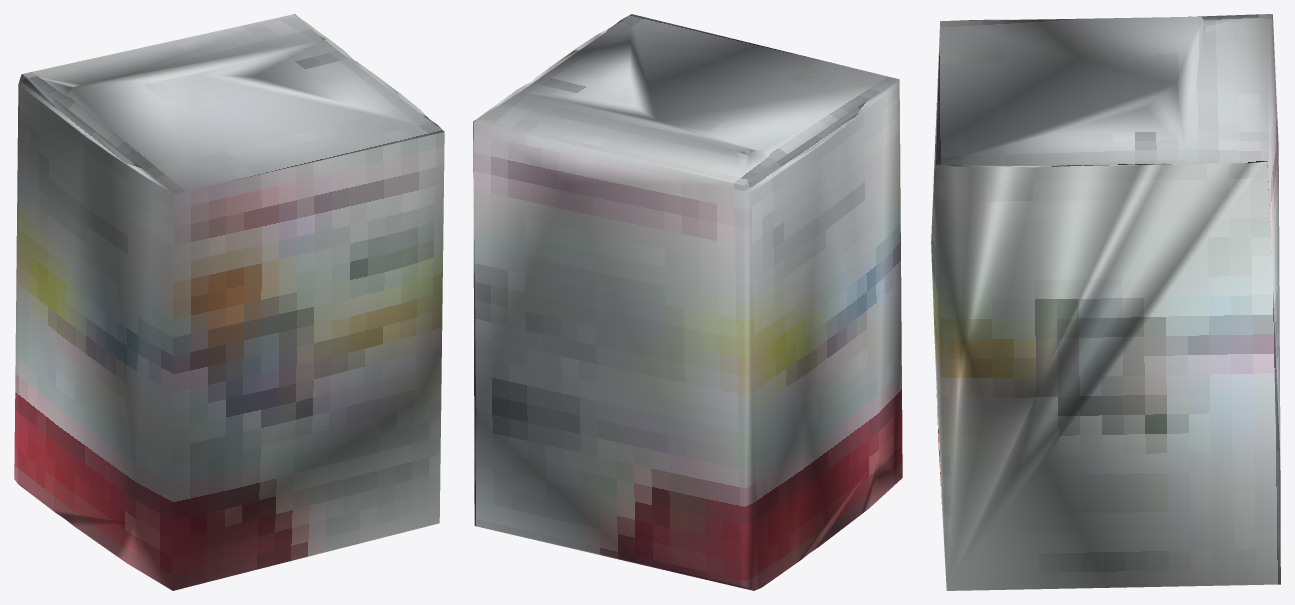
Rendered from Office_Depot_Canon_CLI_8CMY_Remanufactured_Ink_Cartridges_Color_Cyan_Magenta_Yellow_3_count-low.glb.
3 renders of one model, left to right at view 1: azimuth 30°, elevation 25°; view 2: azimuth 150°, elevation 25°; view 3: azimuth 270°, elevation 25°, orthographic. The views are drawn at different scales.
Parts seen in each view (by area): view 1: Office_Depot_Canon_CLI_8CMY_Remanufactured_Ink_Cartridges_Co; view 2: Office_Depot_Canon_CLI_8CMY_Remanufactured_Ink_Cartridges_Co; view 3: Office_Depot_Canon_CLI_8CMY_Remanufactured_Ink_Cartridges_Co.
Boxes of the visible parts, left/top/right/bottom form: Office_Depot_Canon_CLI_8CMY_Remanufactured_Ink_Cartridges_Co: left=14, top=14, right=444, bottom=590; Office_Depot_Canon_CLI_8CMY_Remanufactured_Ink_Cartridges_Co: left=473, top=14, right=902, bottom=590; Office_Depot_Canon_CLI_8CMY_Remanufactured_Ink_Cartridges_Co: left=931, top=14, right=1280, bottom=590.
Bounding box in the file's own units: 0.0853 × 0.1176 × 0.0842.
1 material, 1 textured.
